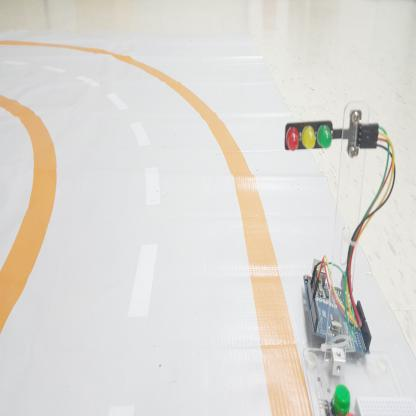traffic-light: (282, 119, 335, 155)
